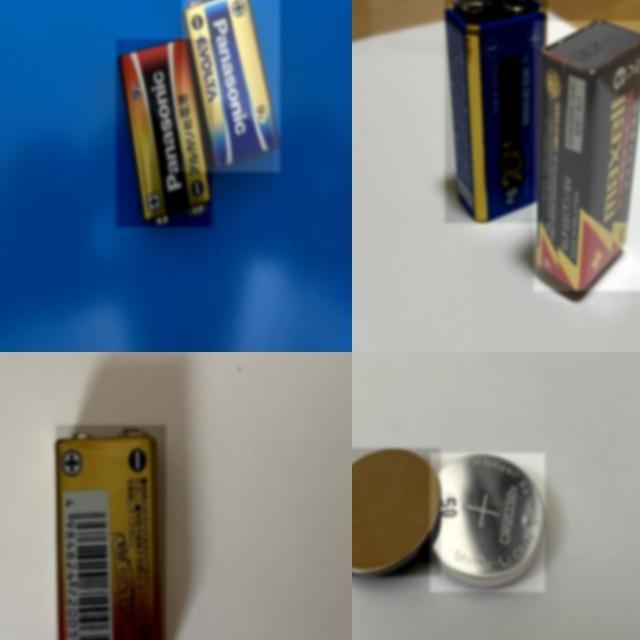9V: (534, 20, 640, 291), (56, 425, 166, 640), (445, 0, 548, 223), (117, 39, 213, 228), (182, 0, 280, 172)
